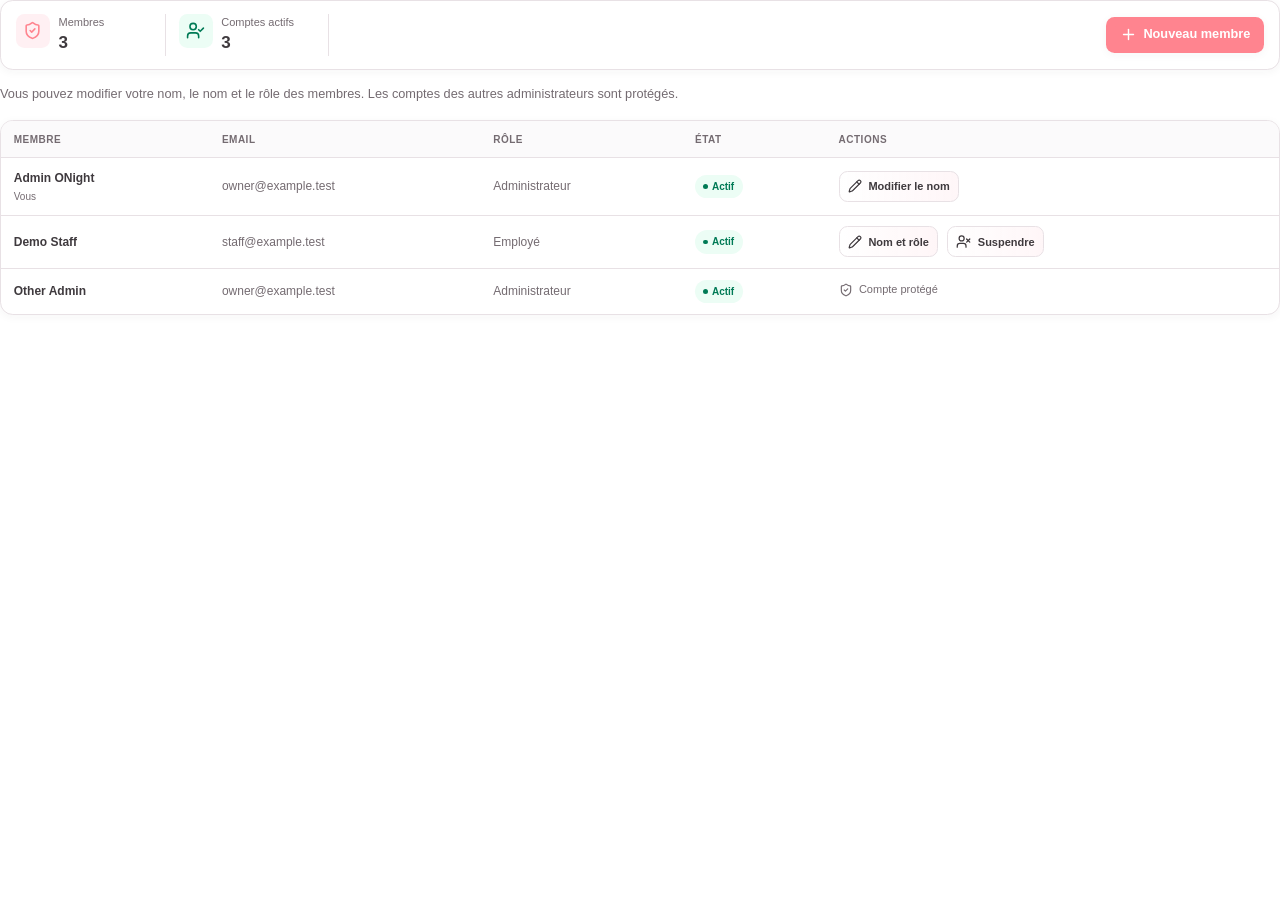
Test case: team name editing › saves a trimmed name without changing any other user fields
Click the button with aria-label "Modifier le nom de Demo Staff". click: (888,242)
box: [838,226,938,258]
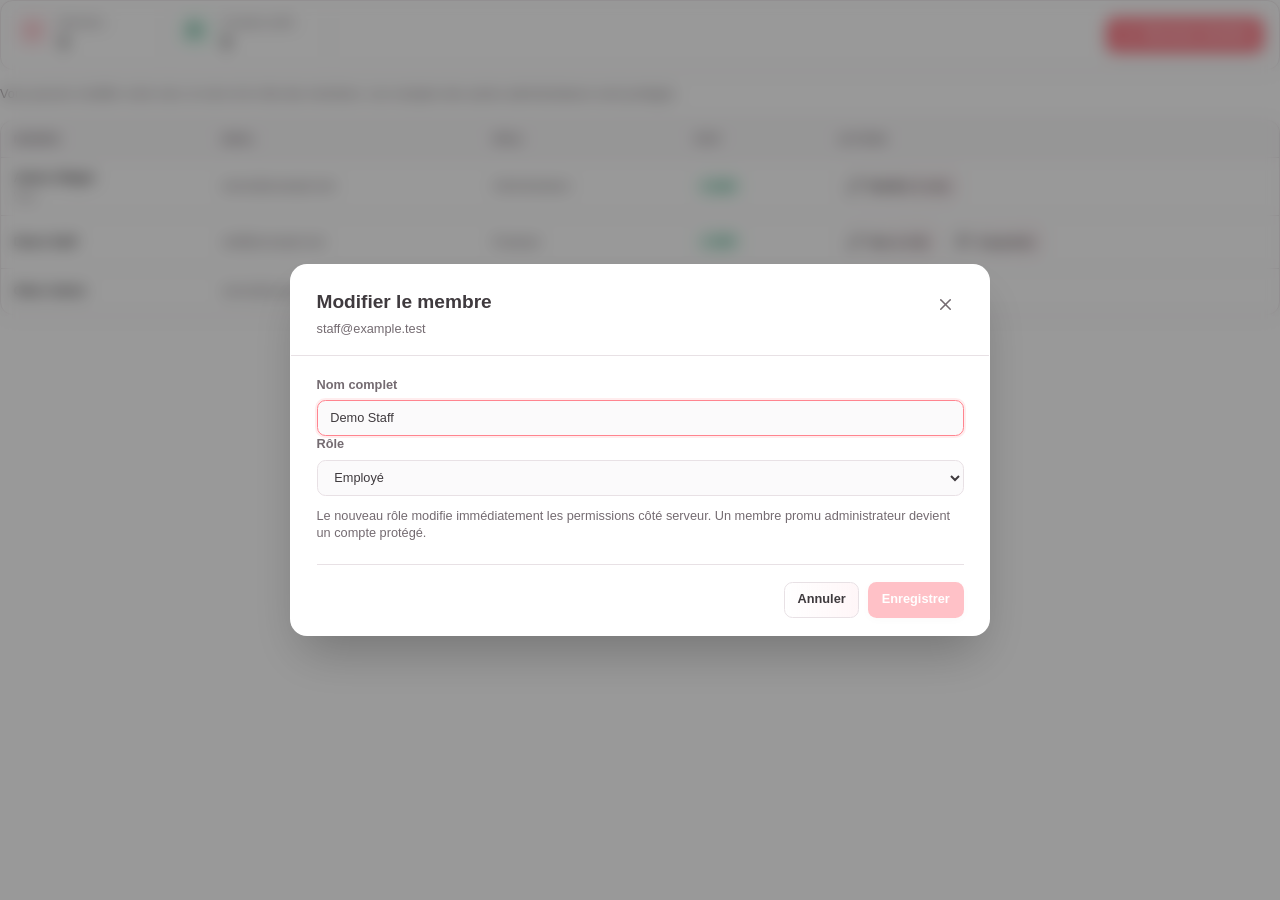
Replace the text in the field labelled "Nom complet" with "  New Staff  ". click: (640,418)
box: [316,400,964,436]
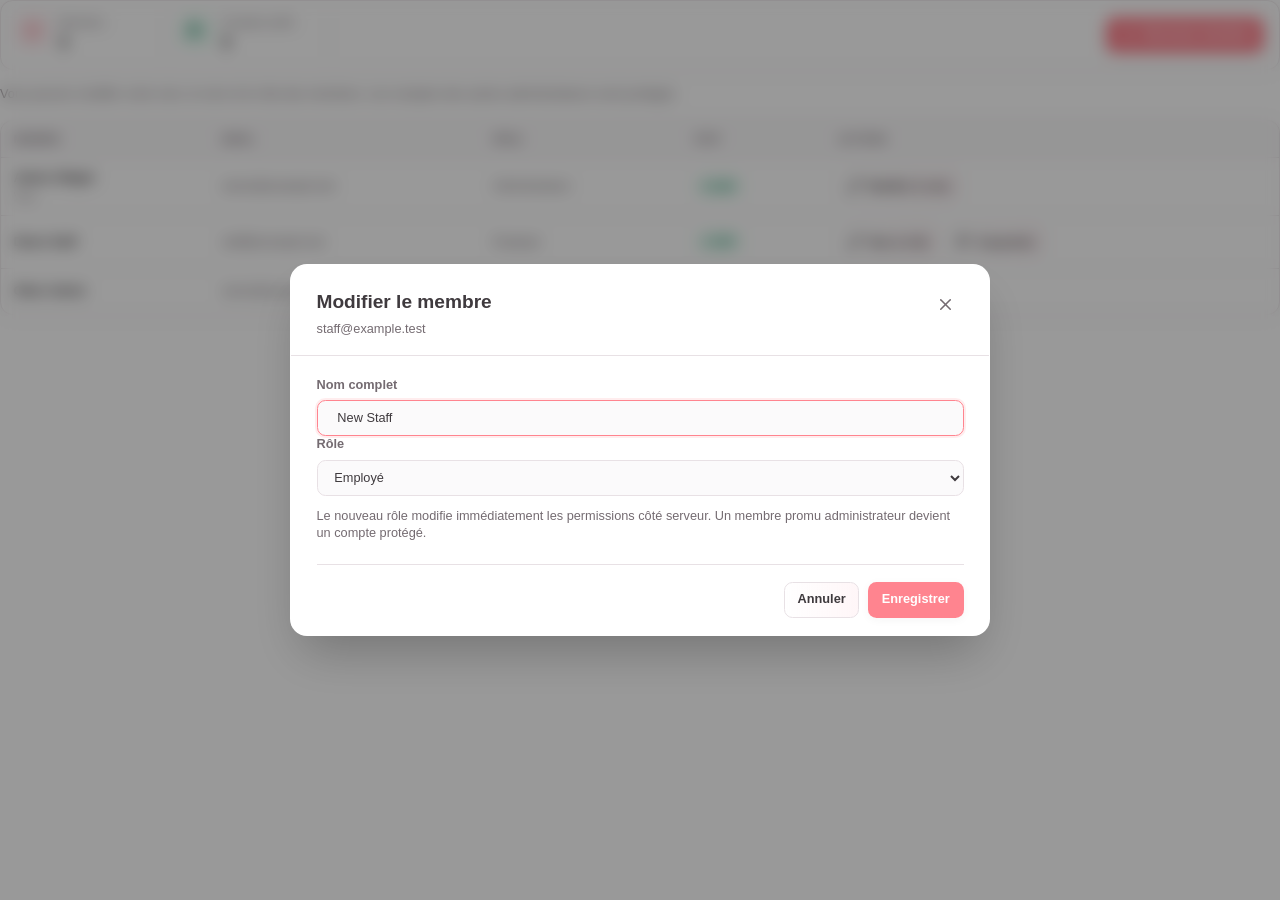
Click the button "Enregistrer". click: (916,600)
box: [868,582,964,618]
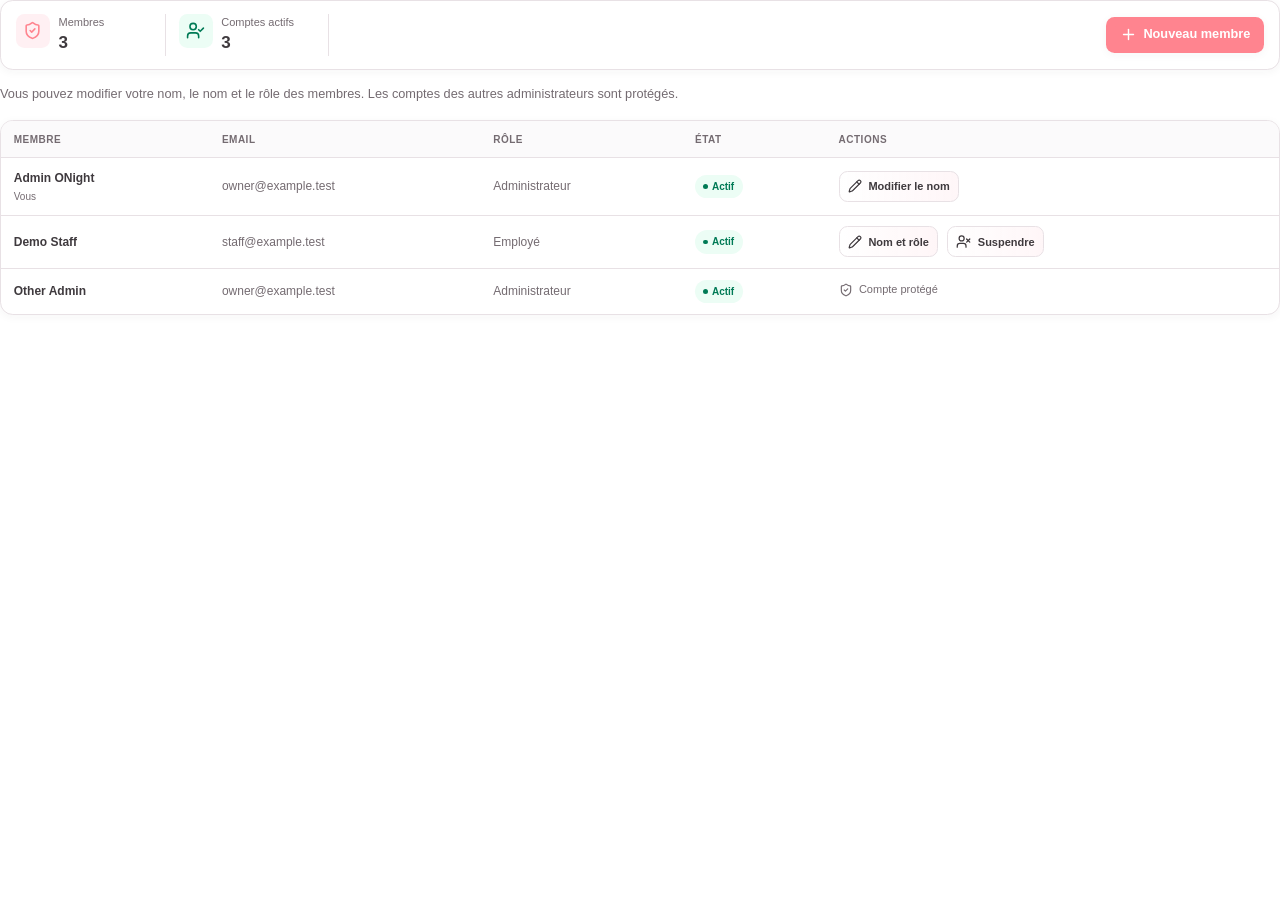
Now the dialog is gone
